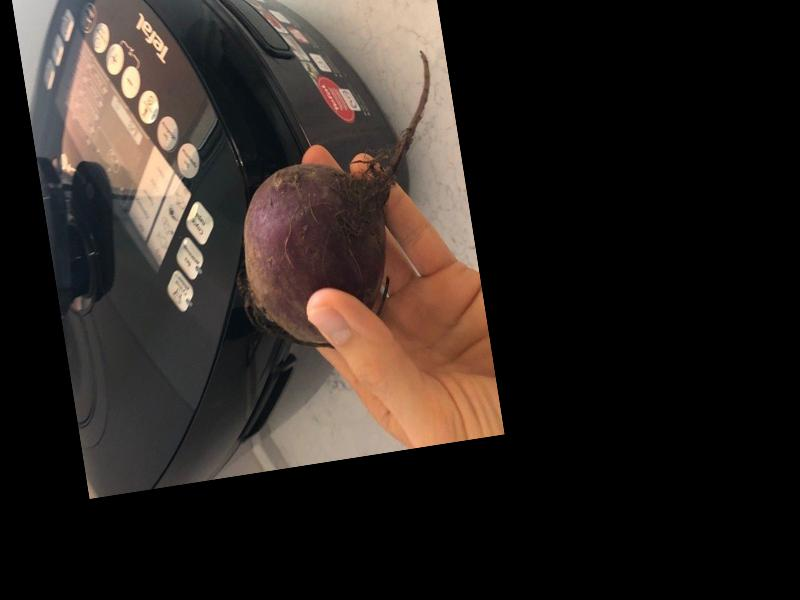Beet: (208, 51, 467, 358)
